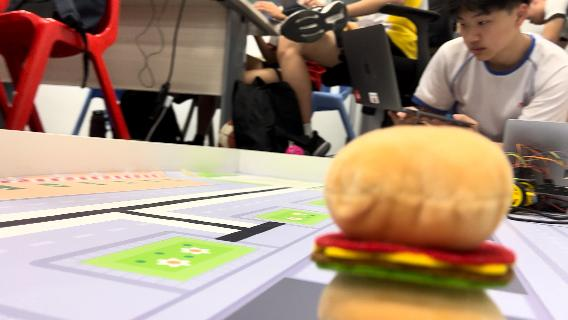burger: (322, 123, 518, 320)
